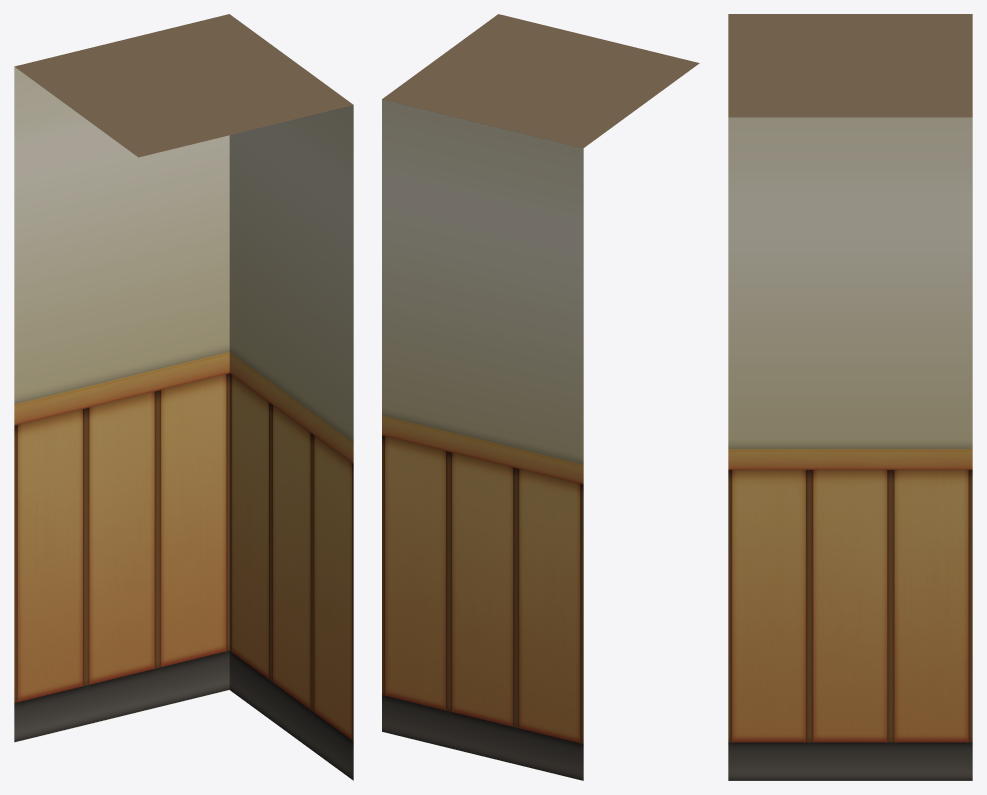
File: SO_BG_FBX_Wall_09.fbx
The picture shows the model from 3 angles, left to right: view 1: azimuth 30°, elevation 25°; view 2: azimuth 150°, elevation 25°; view 3: azimuth 270°, elevation 25°; orthographic projection. The views are drawn at different scales.
Visible parts, largest first — view 1: SO_BG_FBX_Wall_09; view 2: SO_BG_FBX_Wall_09; view 3: SO_BG_FBX_Wall_09.
Part boxes in pixels (x1=…): SO_BG_FBX_Wall_09: x1=14, y1=14, x2=353, y2=780; SO_BG_FBX_Wall_09: x1=382, y1=14, x2=699, y2=780; SO_BG_FBX_Wall_09: x1=728, y1=14, x2=972, y2=780.
Bounding box in the file's own units: 50 × 150 × 50.
